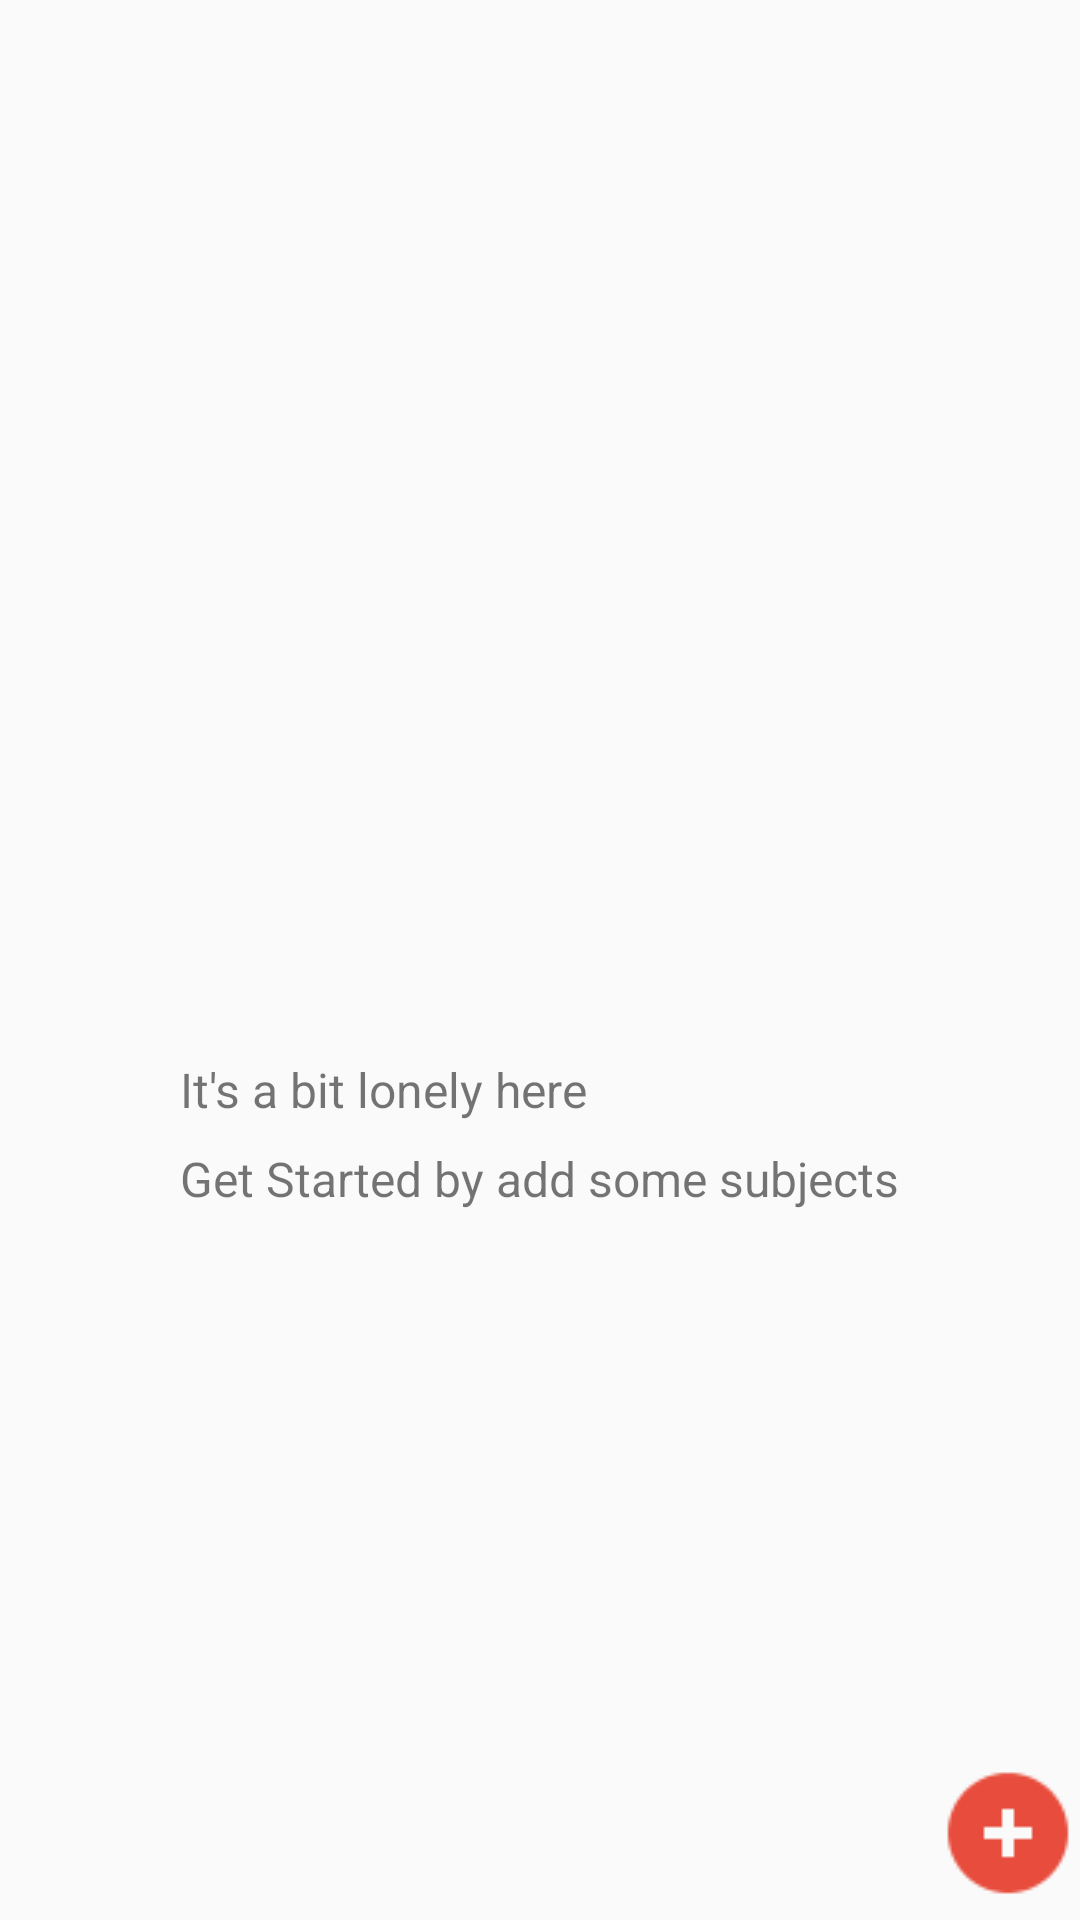

Screen size 1080w x 1920h. Icon name, then its center in pixels as point (x, y):
add: point (1008, 1833)
